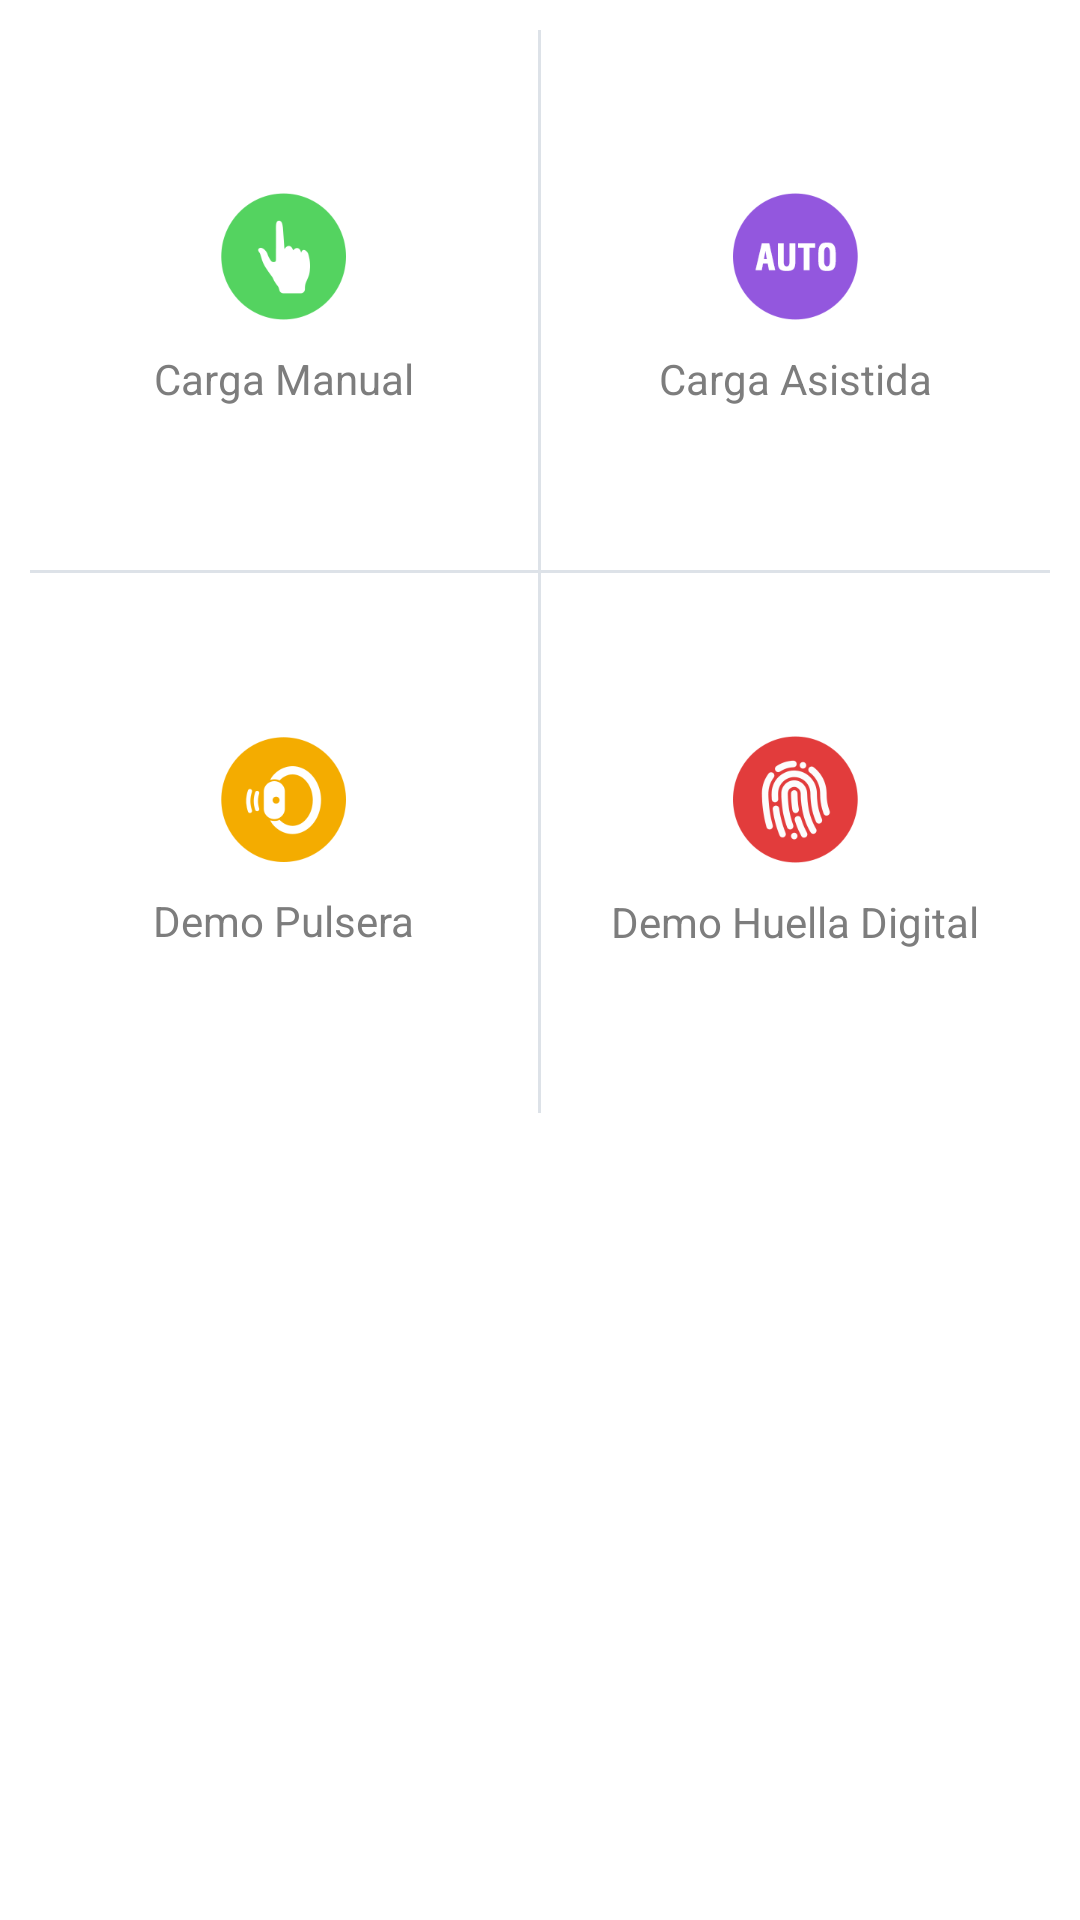

Named icons in this screenshot (1080w x 1920h) and their bounding boxes, box(x1, y1, x2, y2):
braceletdemo: box(221, 737, 346, 862)
fingerprintdemo: box(733, 736, 858, 863)
manualload: box(221, 193, 346, 320)
